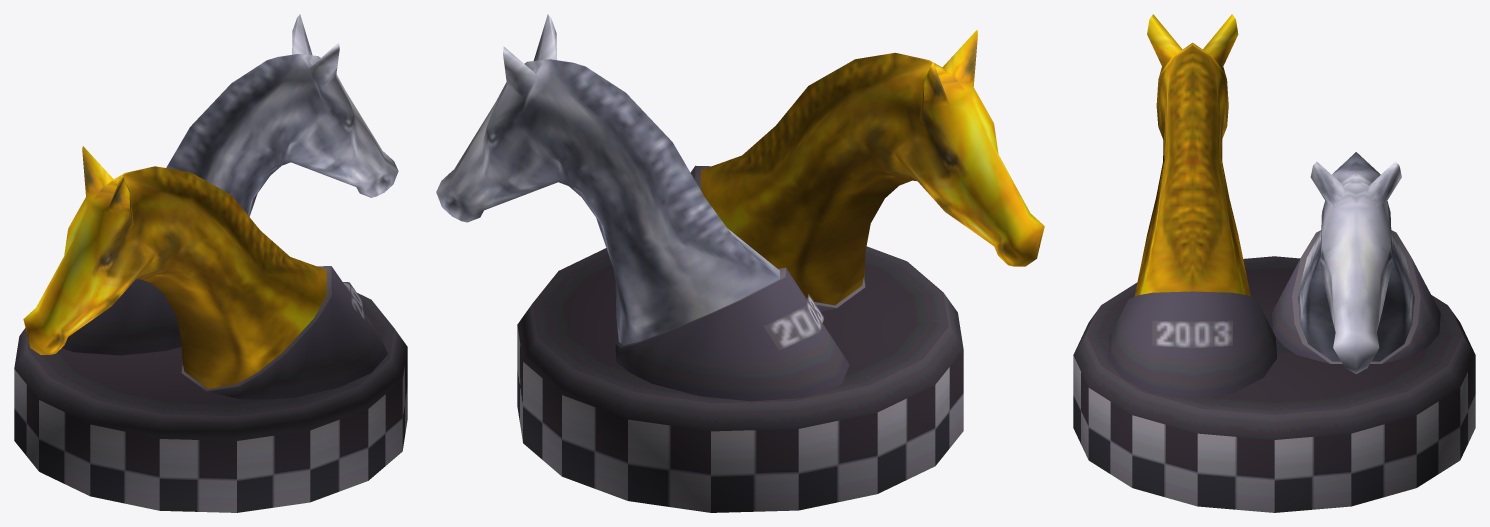
Rendered from ic_dream.icn.obj.
3 views of the same model, side by side, from view 1: azimuth 30°, elevation 25°; view 2: azimuth 150°, elevation 25°; view 3: azimuth 270°, elevation 25° (orthographic). The views are drawn at different scales.
Bounding box in the file's own units: 4.5 × 3.23 × 3.46.
Materials: 1 (1 with a texture image).
